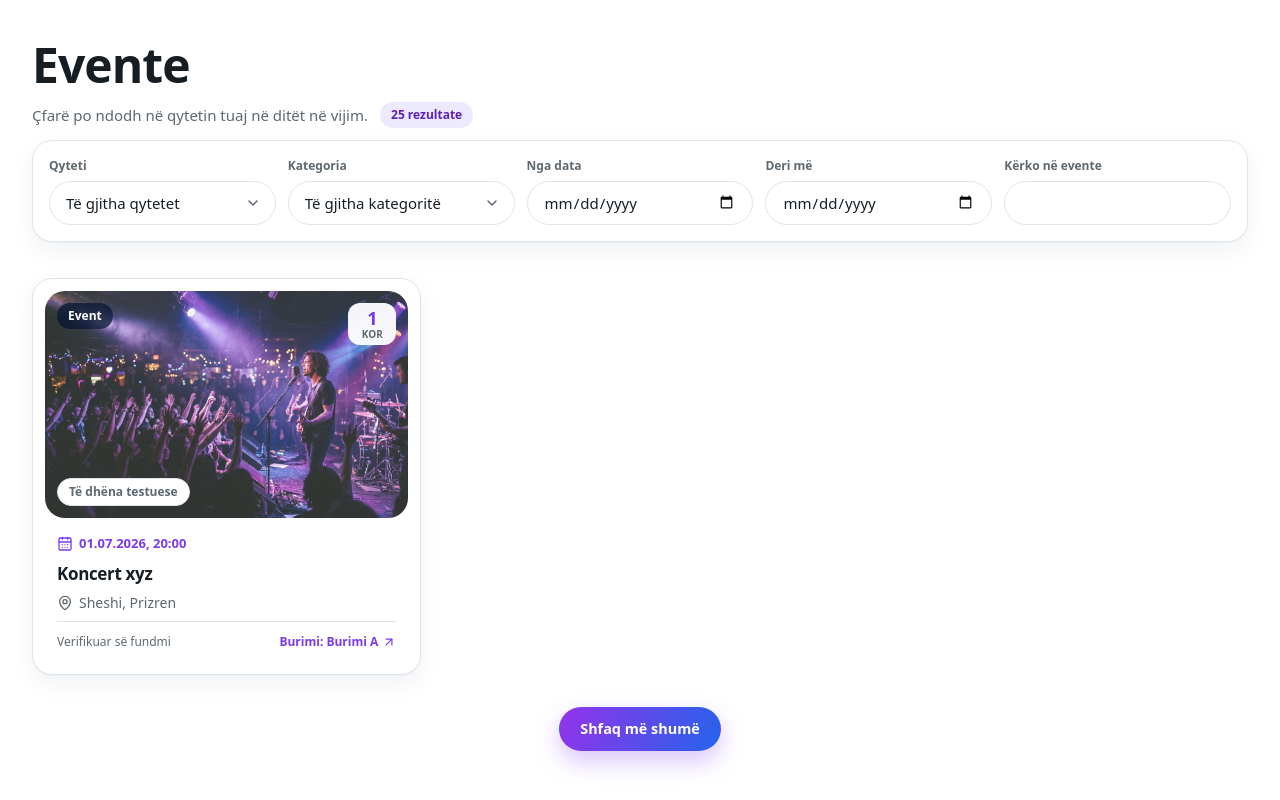
Scenario: list states › loads the next page with "Shfaq më shumë"
The image size is (1280, 800).
Click the button "Shfaq më shumë".
click(640, 729)  # box [559, 707, 721, 751]
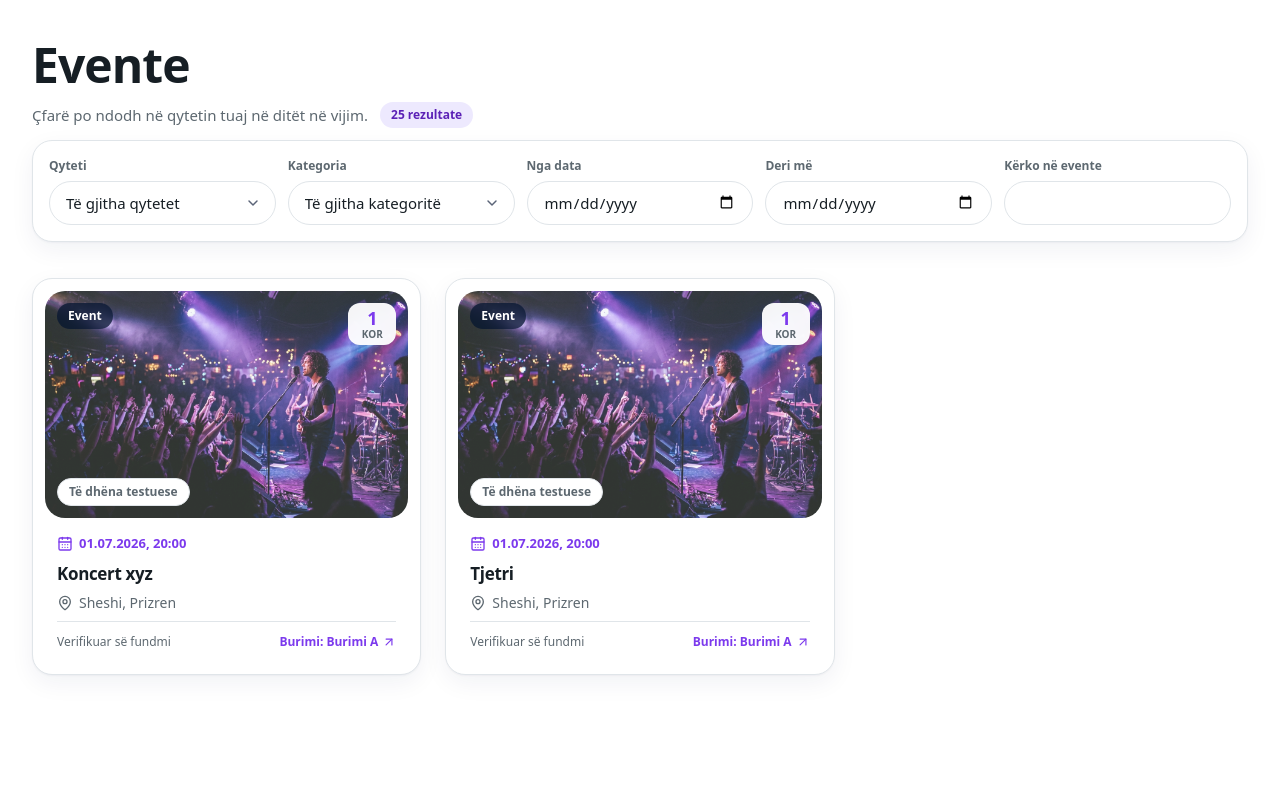
Check: the heading "Tjetri" is shown, box [470, 562, 514, 585]
Check: the button "Shfaq më shumë" is gone
